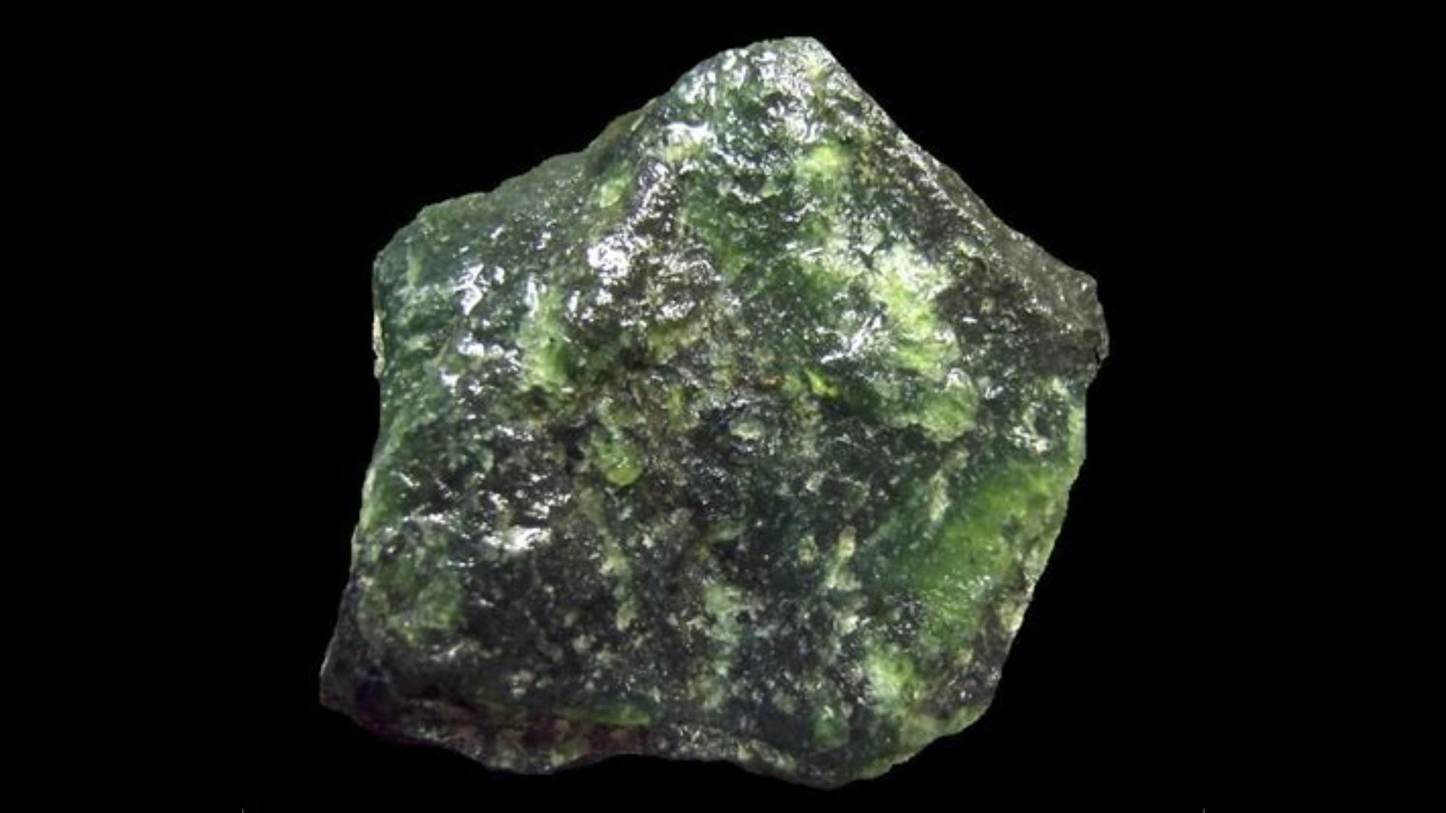rock: (322, 39, 1105, 783)
